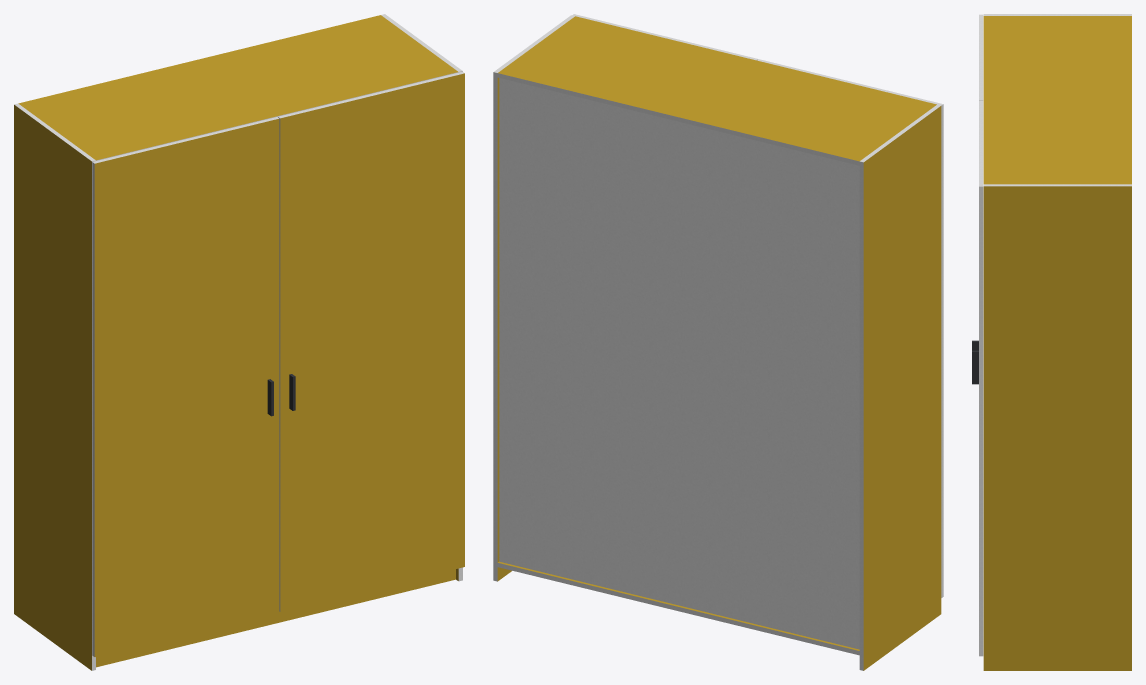
The model's file is FET-WRD-double.glb.
3 views of the same model, side by side, from view 1: azimuth 30°, elevation 25°; view 2: azimuth 150°, elevation 25°; view 3: azimuth 270°, elevation 25° (orthographic). The views are drawn at different scales.
Visible parts, largest first — view 1: door-l:pbr, door-r:pbr, side-l:pbr, top:pbr, plinth:pbr, door-l:sheet:eyJtIjoibWRmIiwic2lkZSI6ImVkZ2UtbG9uZyIsInNlZWQ, door-r:sheet:eyJtIjoibWRmIiwic2lkZSI6ImVkZ2UtbG9uZyIsInNlZWQ; view 2: back:sheet:eyJtIjoibWRmIiwic2lkZSI6ImZhY2UiLCJzZWVkIjoxLCJ0a, side-l:pbr, top:pbr, side-l:sheet:eyJtIjoibWRmIiwic2lkZSI6ImVkZ2UtbG9uZyIsInNlZWQ, side-r:sheet:eyJtIjoibWRmIiwic2lkZSI6ImVkZ2UtbG9uZyIsInNlZWQ, top:sheet:eyJtIjoibWRmIiwic2lkZSI6ImVkZ2UtbG9uZyIsInNlZWQiOj, bottom:sheet:eyJtIjoibWRmIiwic2lkZSI6ImVkZ2UtbG9uZyIsInNlZWQ, side-r:pbr, door-l:sheet:eyJtIjoibWRmIiwic2lkZSI6ImVkZ2UtbG9uZyIsInNlZWQ, bottom:pbr; view 3: side-r:pbr, top:pbr, door-r:sheet:eyJtIjoibWRmIiwic2lkZSI6ImVkZ2UtbG9uZyIsInNlZWQ, side-r:sheet:eyJtIjoibWRmIiwic2lkZSI6ImVkZ2UtZW5kIiwic2VlZCI, door-r:sheet:eyJtIjoibWRmIiwic2lkZSI6ImVkZ2UtZW5kIiwic2VlZCI, door-l:sheet:eyJtIjoibWRmIiwic2lkZSI6ImVkZ2UtZW5kIiwic2VlZCI, pull, side-l:sheet:eyJtIjoibWRmIiwic2lkZSI6ImVkZ2UtZW5kIiwic2VlZCI.
Part boxes in pixels (box(x1,y1,x2,y2)): door-l:pbr: box(94, 119, 279, 656); door-r:pbr: box(280, 73, 464, 611); side-l:pbr: box(14, 105, 91, 670); top:pbr: box(18, 15, 457, 160); plinth:pbr: box(96, 569, 455, 667); door-l:sheet:eyJtIjoibWRmIiwic2lkZSI6ImVkZ2UtbG9uZyIsInNlZWQ: box(92, 162, 94, 656); door-r:sheet:eyJtIjoibWRmIiwic2lkZSI6ImVkZ2UtbG9uZyIsInNlZWQ: box(278, 117, 280, 611); back:sheet:eyJtIjoibWRmIiwic2lkZSI6ImZhY2UiLCJzZWVkIjoxLCJ0a: box(499, 78, 859, 649); side-l:pbr: box(863, 106, 941, 670); top:pbr: box(498, 16, 936, 161); side-l:sheet:eyJtIjoibWRmIiwic2lkZSI6ImVkZ2UtbG9uZyIsInNlZWQ: box(859, 161, 863, 670); side-r:sheet:eyJtIjoibWRmIiwic2lkZSI6ImVkZ2UtbG9uZyIsInNlZWQ: box(493, 72, 497, 581); top:sheet:eyJtIjoibWRmIiwic2lkZSI6ImVkZ2UtbG9uZyIsInNlZWQiOj: box(497, 73, 859, 165); bottom:sheet:eyJtIjoibWRmIiwic2lkZSI6ImVkZ2UtbG9uZyIsInNlZWQ: box(497, 563, 859, 655); side-r:pbr: box(497, 77, 511, 581); door-l:sheet:eyJtIjoibWRmIiwic2lkZSI6ImVkZ2UtbG9uZyIsInNlZWQ: box(941, 104, 943, 597); bottom:pbr: box(498, 561, 859, 650); side-r:pbr: box(983, 186, 1131, 670); top:pbr: box(983, 16, 1131, 184); door-r:sheet:eyJtIjoibWRmIiwic2lkZSI6ImVkZ2UtbG9uZyIsInNlZWQ: box(979, 186, 983, 656); side-r:sheet:eyJtIjoibWRmIiwic2lkZSI6ImVkZ2UtZW5kIiwic2VlZCI: box(983, 184, 1131, 186); door-r:sheet:eyJtIjoibWRmIiwic2lkZSI6ImVkZ2UtZW5kIiwic2VlZCI: box(979, 100, 983, 186); door-l:sheet:eyJtIjoibWRmIiwic2lkZSI6ImVkZ2UtZW5kIiwic2VlZCI: box(979, 14, 983, 100); pull: box(972, 340, 978, 384); side-l:sheet:eyJtIjoibWRmIiwic2lkZSI6ImVkZ2UtZW5kIiwic2VlZCI: box(983, 14, 1131, 15).
Bounding box in the file's own units: 1.6 × 2.1 × 0.6271.
34 materials, 23 textured.
